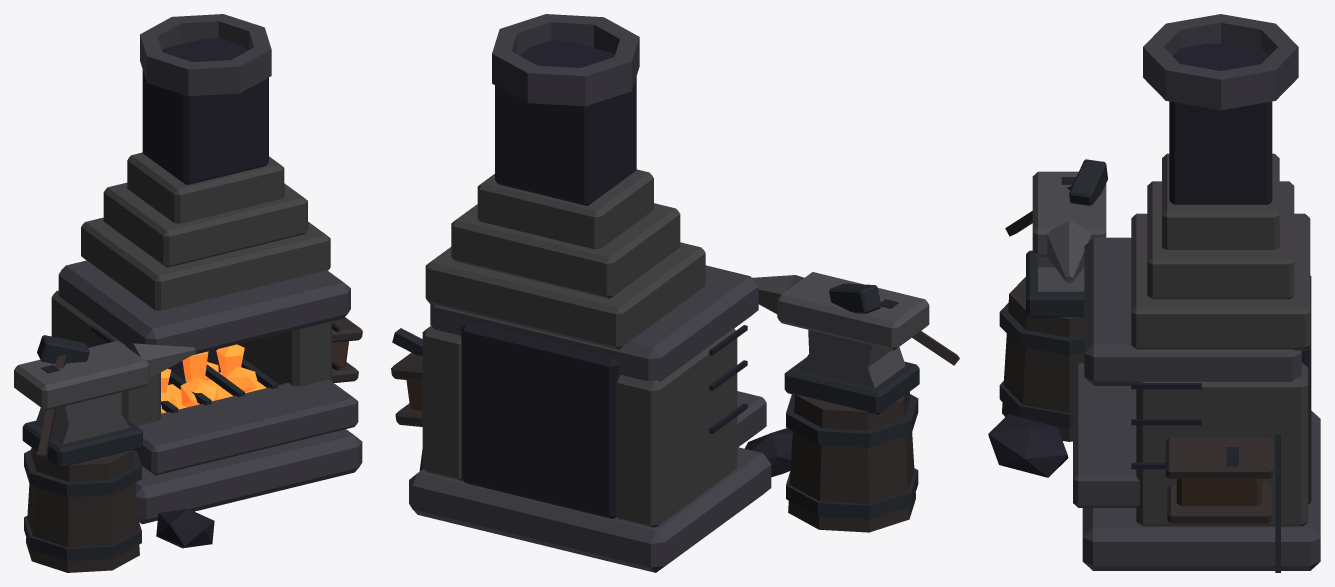
Rendered from Forge_Anvil_Station.glb.
The picture shows the model from 3 angles, left to right: view 1: azimuth 30°, elevation 25°; view 2: azimuth 150°, elevation 25°; view 3: azimuth 270°, elevation 25°; orthographic projection. The views are drawn at different scales.
Visible parts, largest first — view 1: Forge_Anvil_Station; view 2: Forge_Anvil_Station; view 3: Forge_Anvil_Station.
Boxes of the visible parts, bbox=[...] form: Forge_Anvil_Station: bbox=[14, 14, 362, 572]; Forge_Anvil_Station: bbox=[391, 14, 959, 572]; Forge_Anvil_Station: bbox=[988, 14, 1320, 572].
Bounding box in the file's own units: 3.66 × 3.59 × 2.26.
